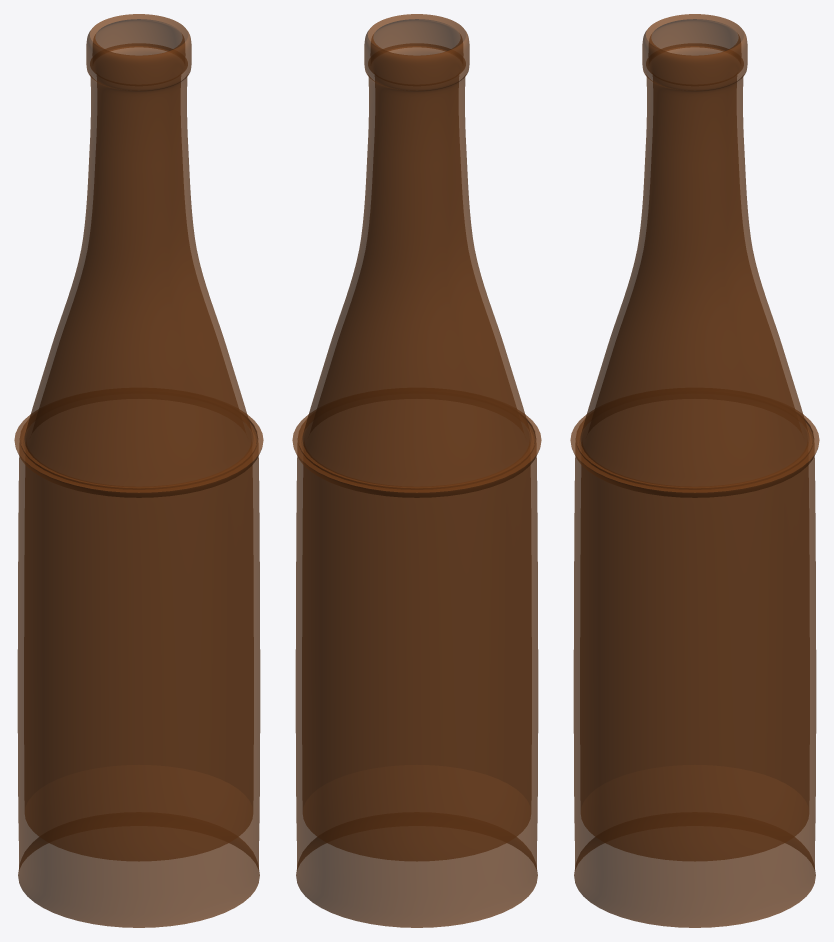
Rendered from bottle_longneck_355ml.glb.
The picture shows the model from 3 angles, left to right: view 1: azimuth 30°, elevation 25°; view 2: azimuth 150°, elevation 25°; view 3: azimuth 270°, elevation 25°; orthographic projection.
Visible parts, largest first — view 1: bottle_longneck_355ml; view 2: bottle_longneck_355ml; view 3: bottle_longneck_355ml.
Boxes of the visible parts, bbox=[...] form: bottle_longneck_355ml: bbox=[14, 14, 263, 927]; bottle_longneck_355ml: bbox=[292, 14, 541, 927]; bottle_longneck_355ml: bbox=[570, 14, 819, 927].
Size of the model in its own units: 0.0633 by 0.236 by 0.0633.
